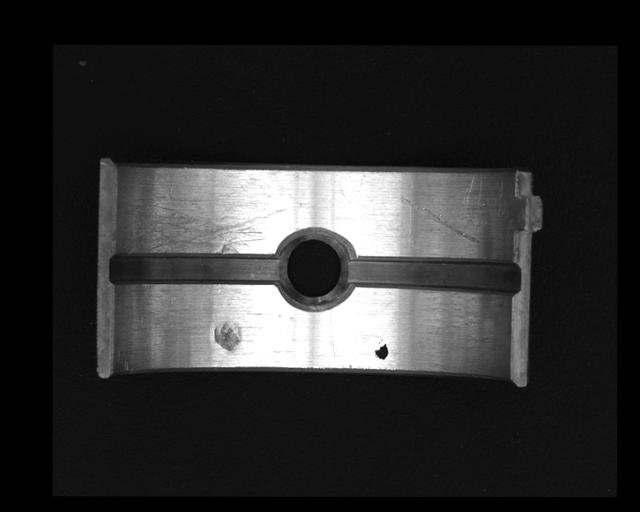blot: (374, 338, 388, 361)
bruise: (214, 321, 244, 352)
gap: (347, 256, 523, 296), (107, 250, 284, 287)
hole: (274, 228, 353, 312)
nick: (399, 195, 480, 245)
scratch: (123, 185, 288, 254)
